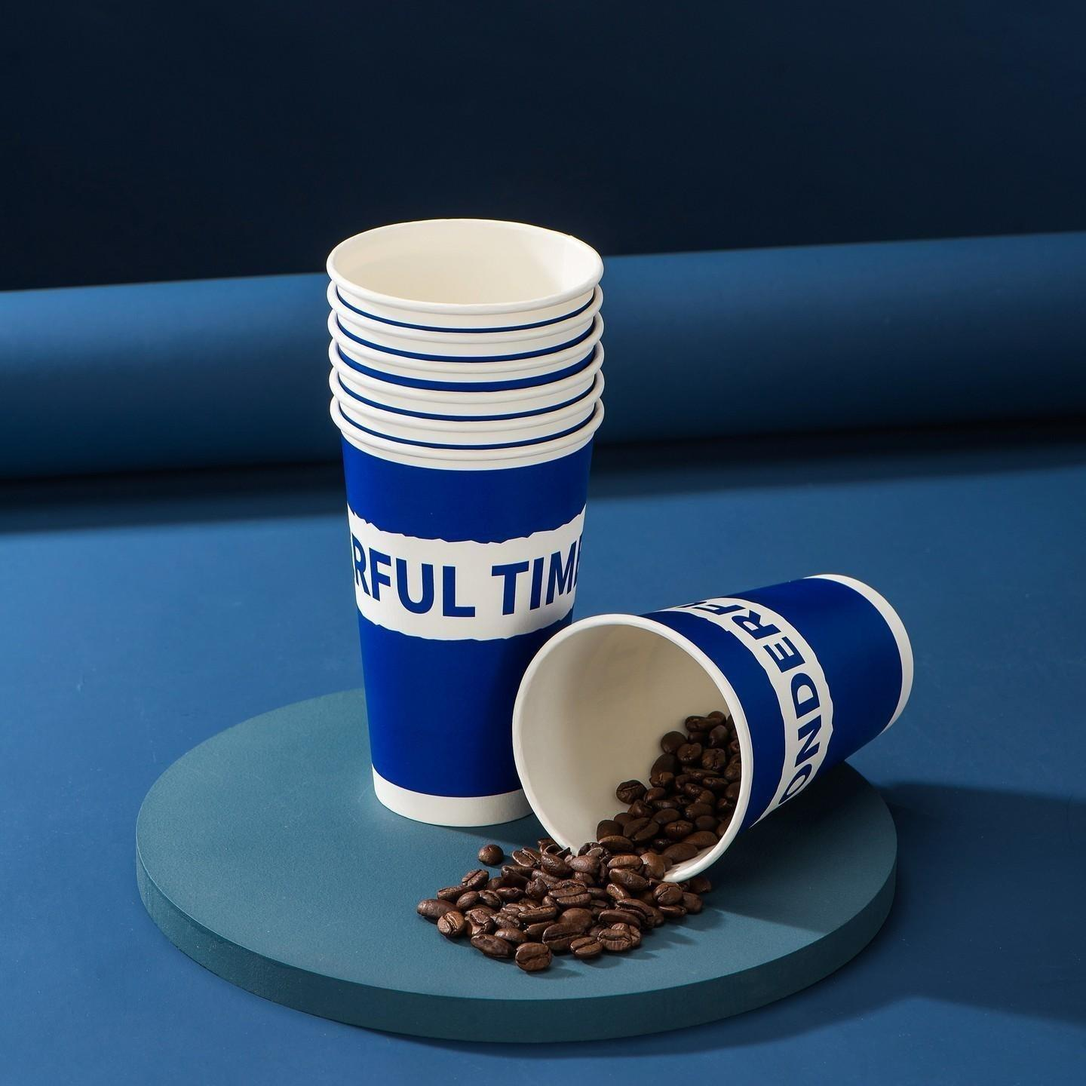cup-disposable: (320, 207, 616, 833), (508, 562, 922, 899)
